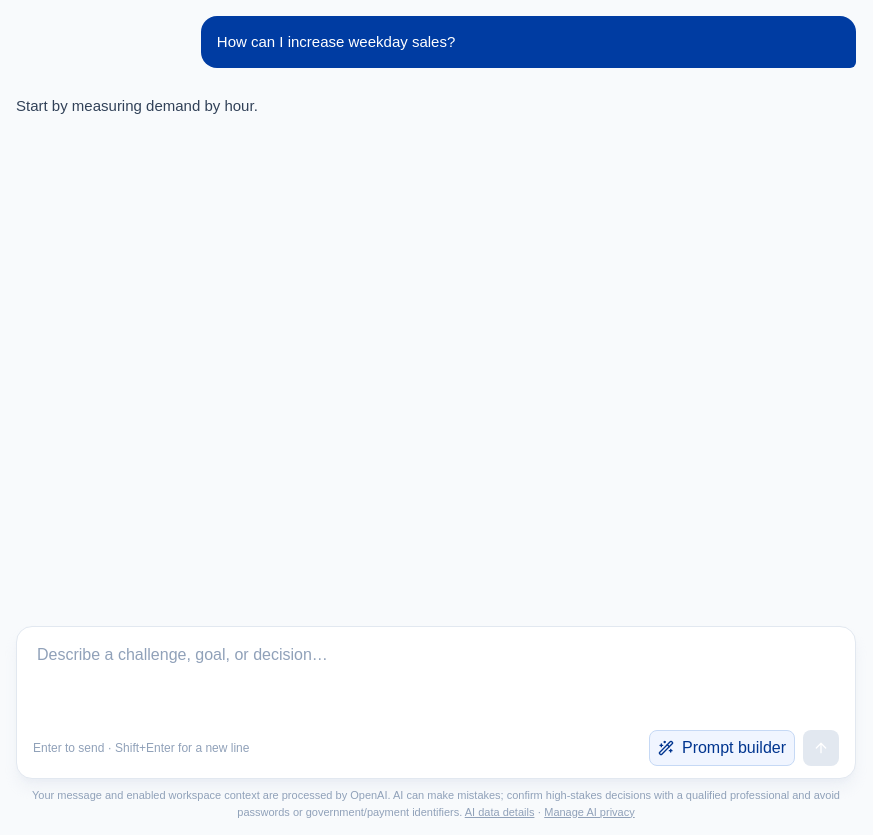
Test: persistent conversations › loads the selected conversation and keeps additional messages on the same ID
The image size is (873, 835).
Expected: the text "Start by measuring demand by hour." is shown, [16,97,258,114]
Type "What should I test first?" into the text box named "Message your business consultant" at (436, 679), box [25,635,847,723]
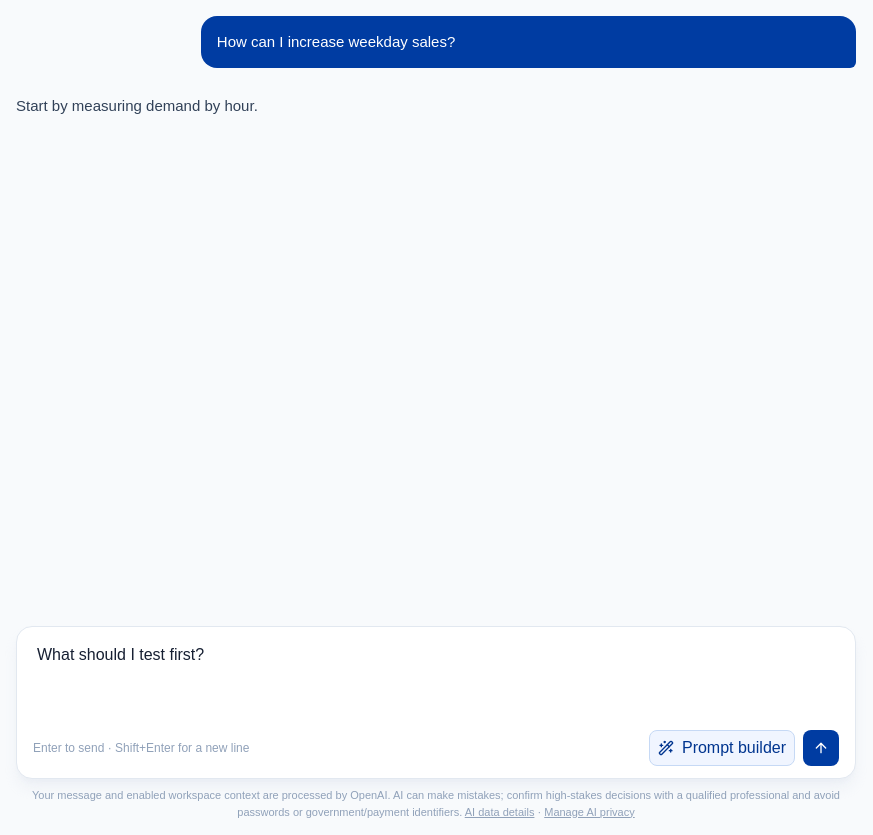
Click the button named "Send message" at (821, 748), box [803,730,839,766]
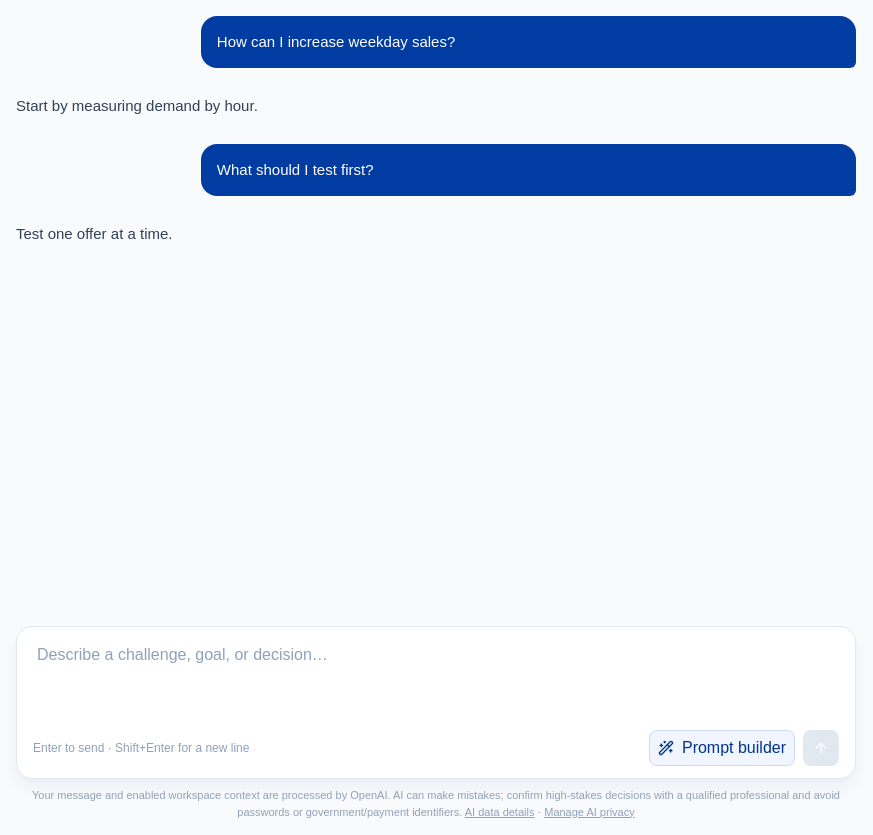
Expected: the text "Test one offer at a time." is shown, [16,225,172,242]
